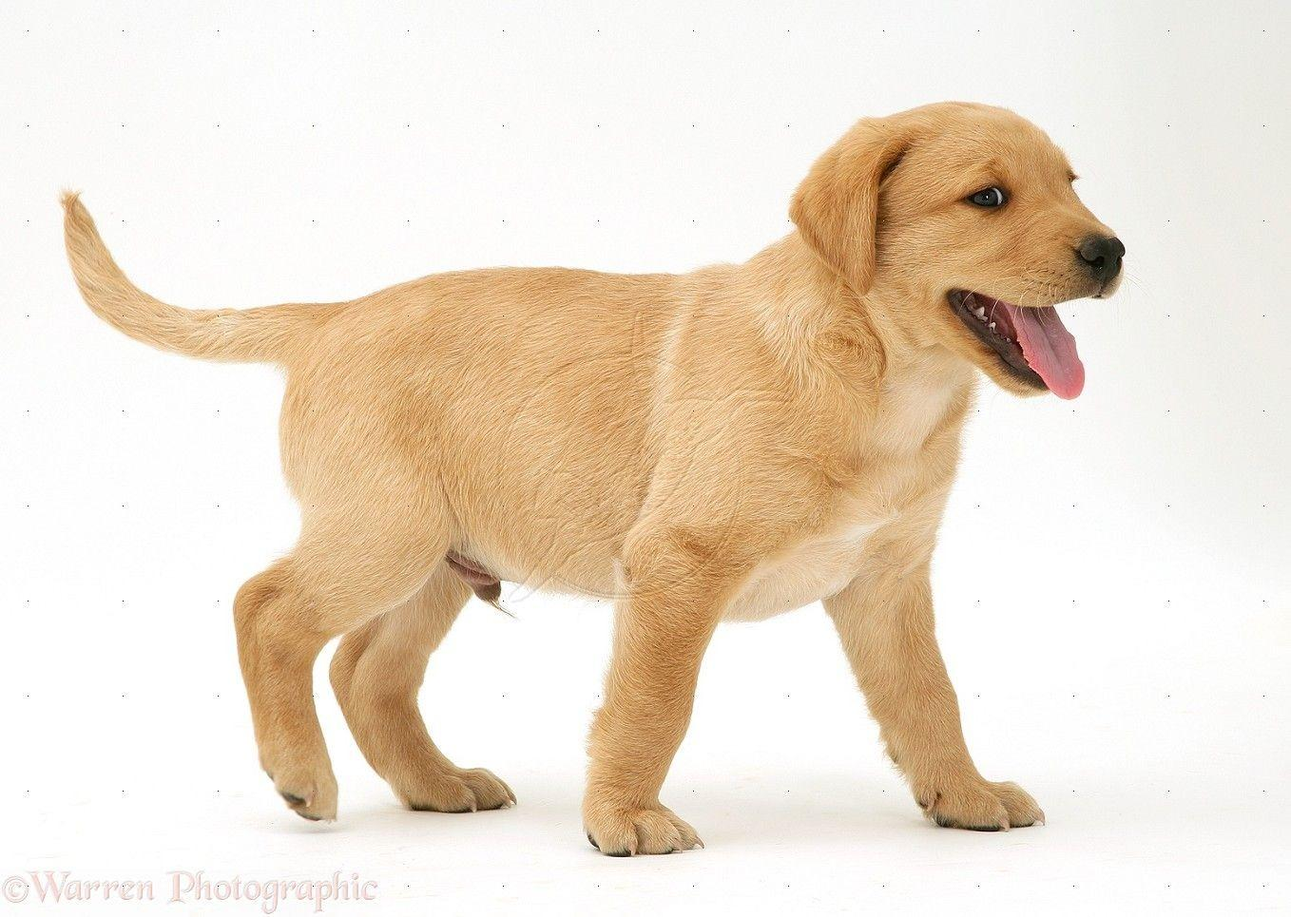puppy-dog: (55, 101, 1128, 857)
